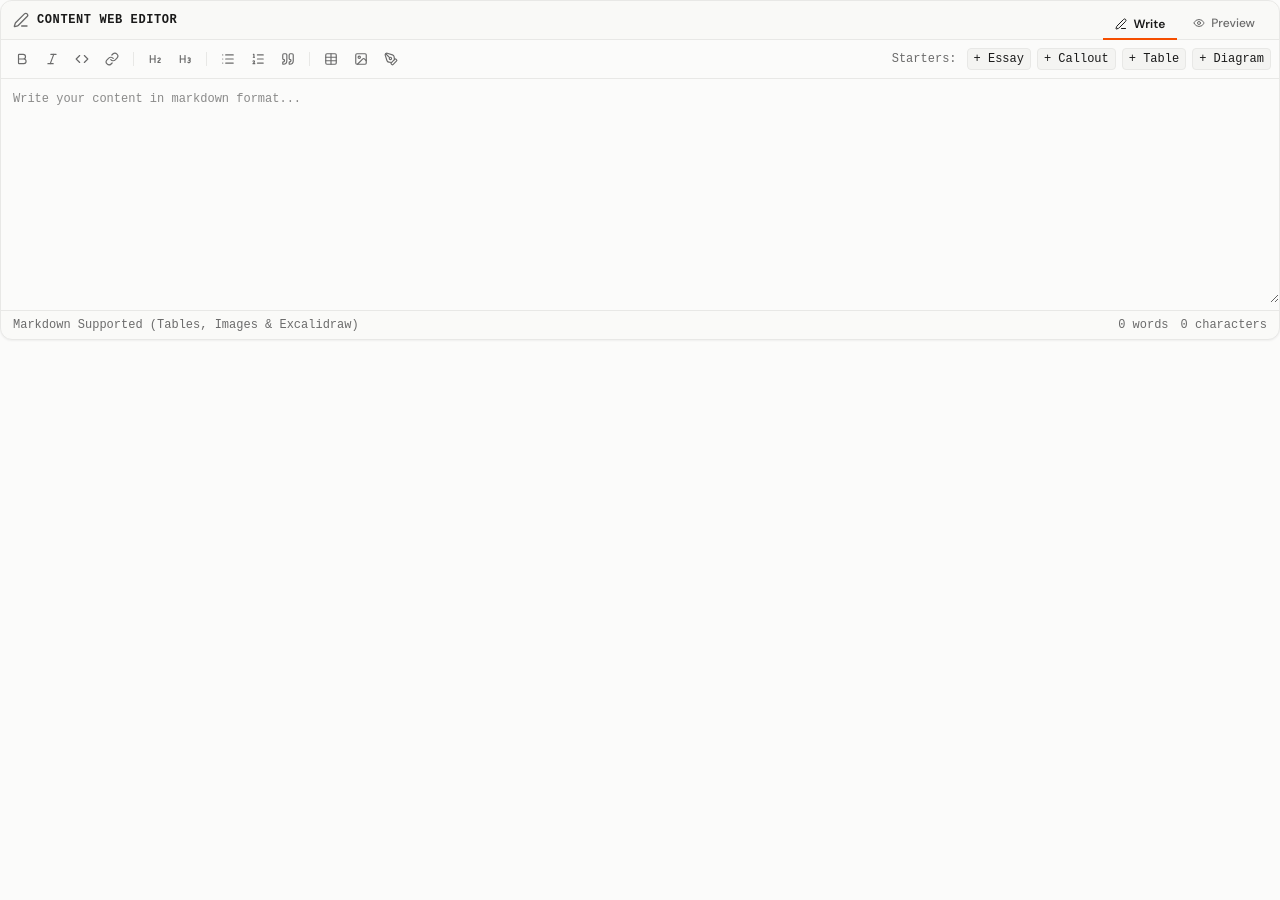
Test: WebEditor Admin Component › opens image asset modal and allows folder customization
Click the button titled "insert image": (361, 59) 348,46 -> 374,72
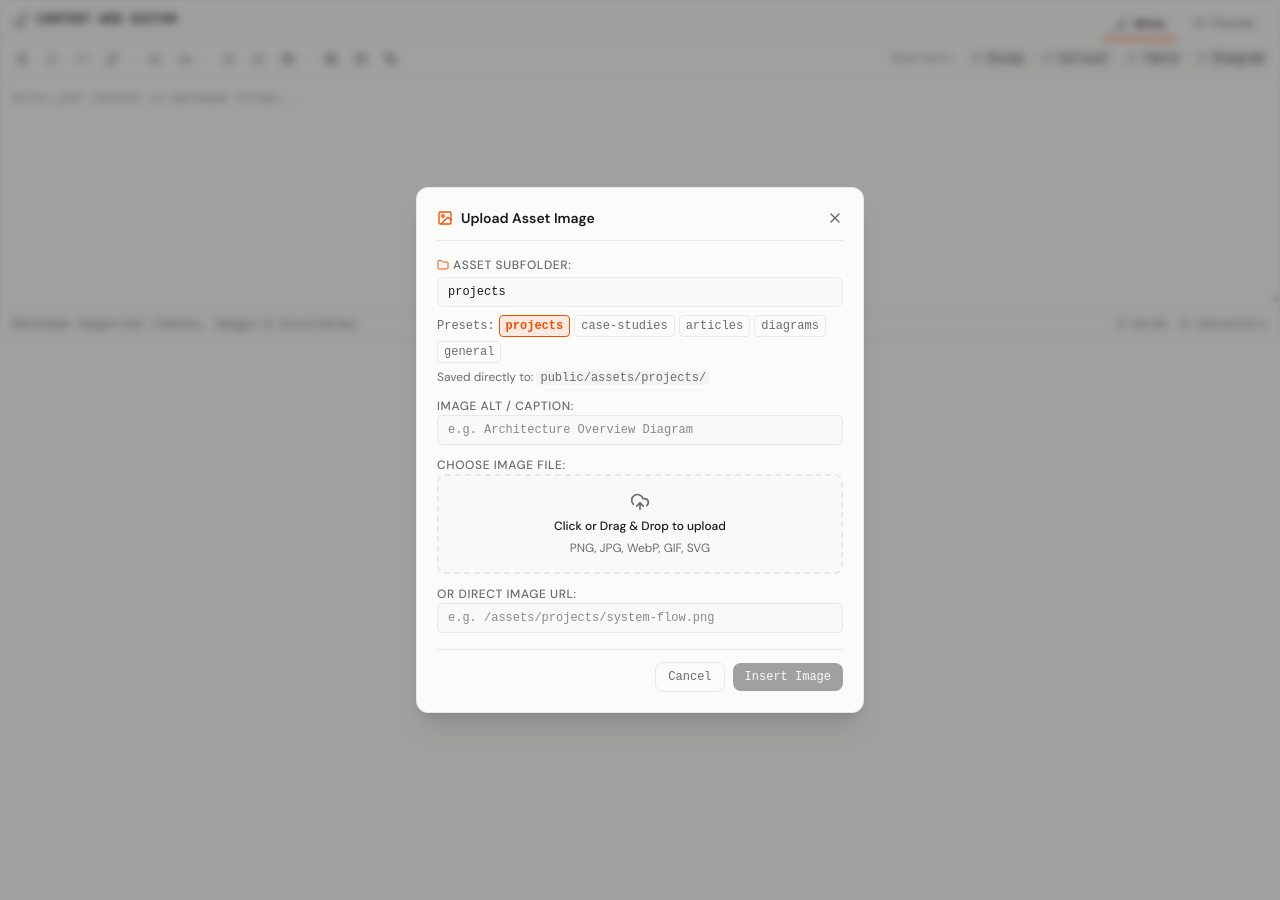
Expected: the heading "Upload Asset Image" is shown, 461,208 -> 595,228
Expected: the field with placeholder "e.g. projects, articles, diagrams" is shown, 437,277 -> 843,307
Expected: the button "case-studies" is shown, 574,315 -> 675,337
